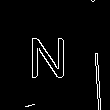N_N: (34, 29, 76, 81)
